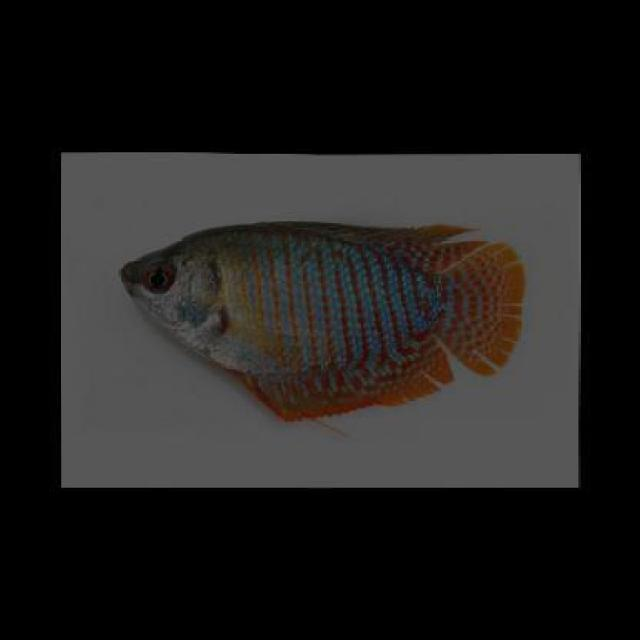Gourami: (121, 214, 524, 426)
